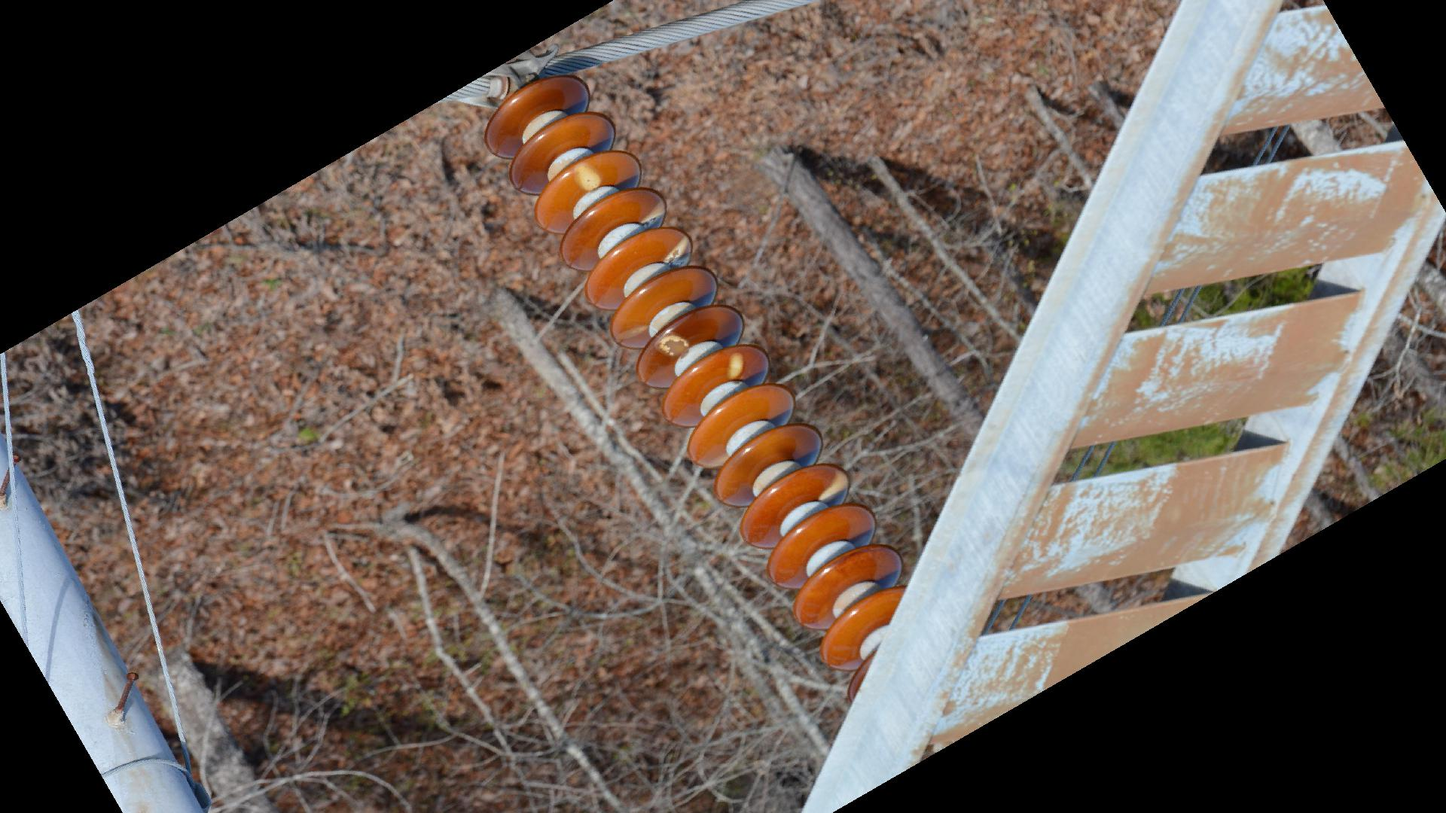insulator: (479, 72, 907, 690)
insulator_flashover: (816, 468, 850, 502), (662, 233, 694, 269), (572, 160, 602, 193), (655, 333, 691, 359), (640, 198, 669, 230), (725, 350, 746, 382)
